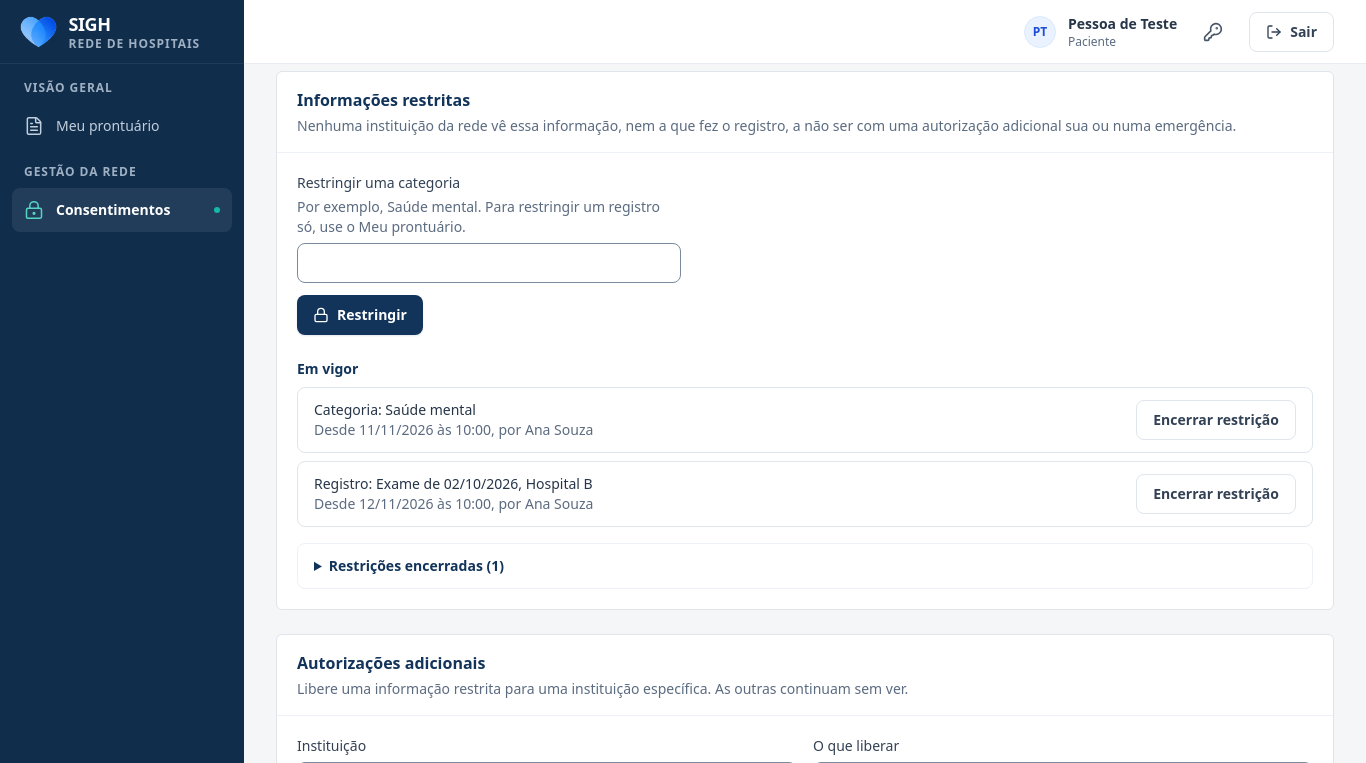
Scenario: FE-05: Consentimentos — informações restritas (RF-009) › encerrar uma restrição pede confirmação e explica o efeito
The image size is (1366, 763).
Later steps or results of the test are not shown.
(page scrolled)
Click the button with aria-label "Encerrar restrição: Categoria: Saúde mental" at [1216, 420], box 1136,400 -> 1296,440
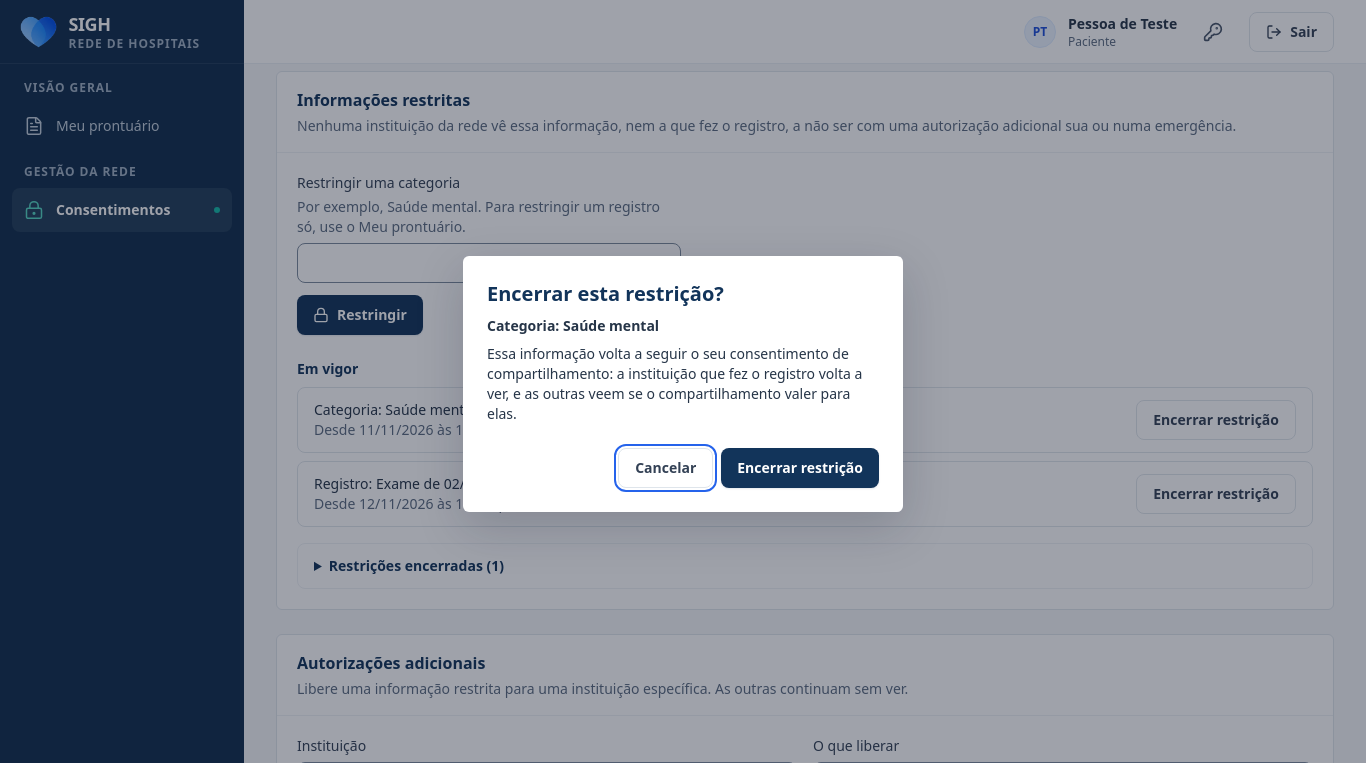
Now the dialog "Encerrar esta restrição?" shows "a instituição que fez o registro volta a ver, e as outras veem se o compartilhamento valer para elas", box 487,344 -> 862,423
